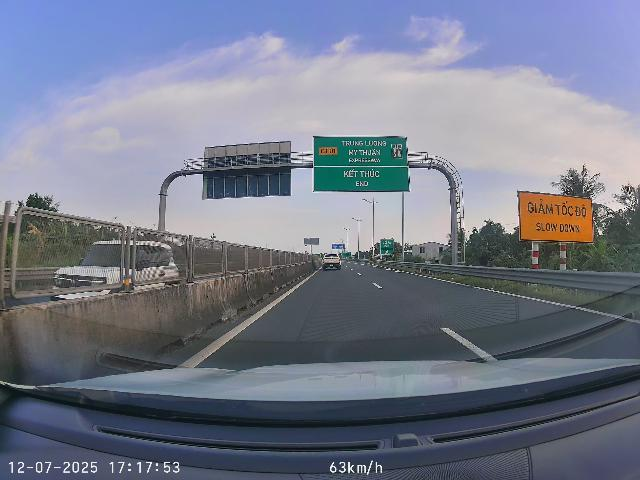438-ket-thuc-duong-cao-toc: (391, 143, 403, 159)
